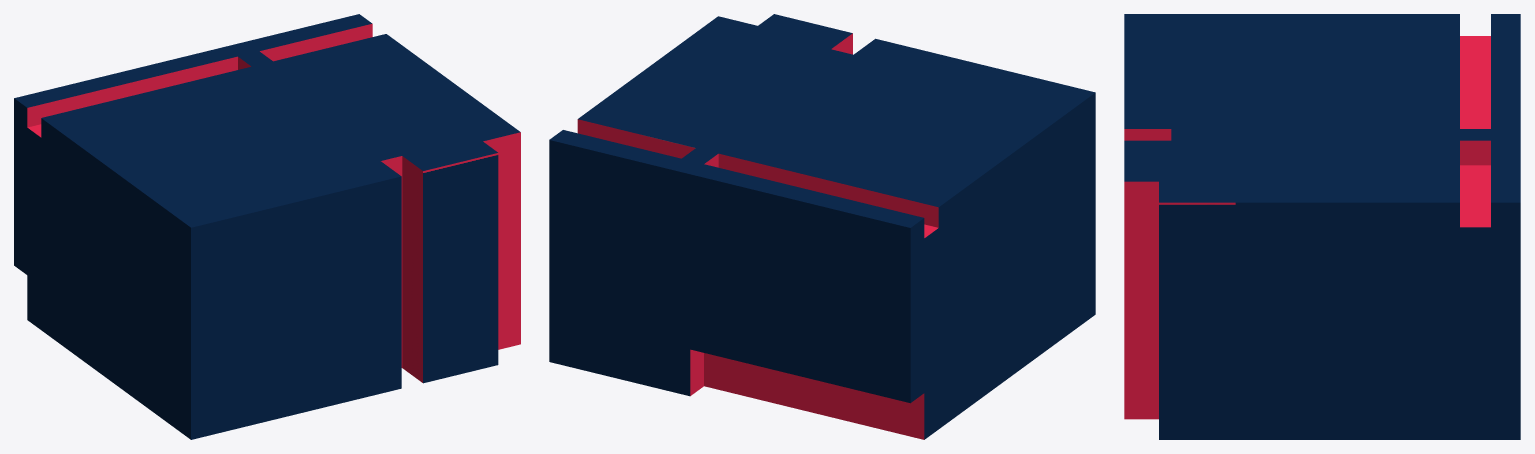
File: Platform08.fbx
3 views of the same model, side by side, from view 1: azimuth 30°, elevation 25°; view 2: azimuth 150°, elevation 25°; view 3: azimuth 270°, elevation 25° (orthographic). The views are drawn at different scales.
Parts seen in each view (by area): view 1: Box068; view 2: Box068; view 3: Box068.
Part boxes in pixels (box(x1,y1,x2,y2)): Box068: box(14, 14, 520, 439); Box068: box(549, 14, 1095, 439); Box068: box(1124, 14, 1520, 439).
Size of the model in its own units: 130 by 76.1 by 115.
